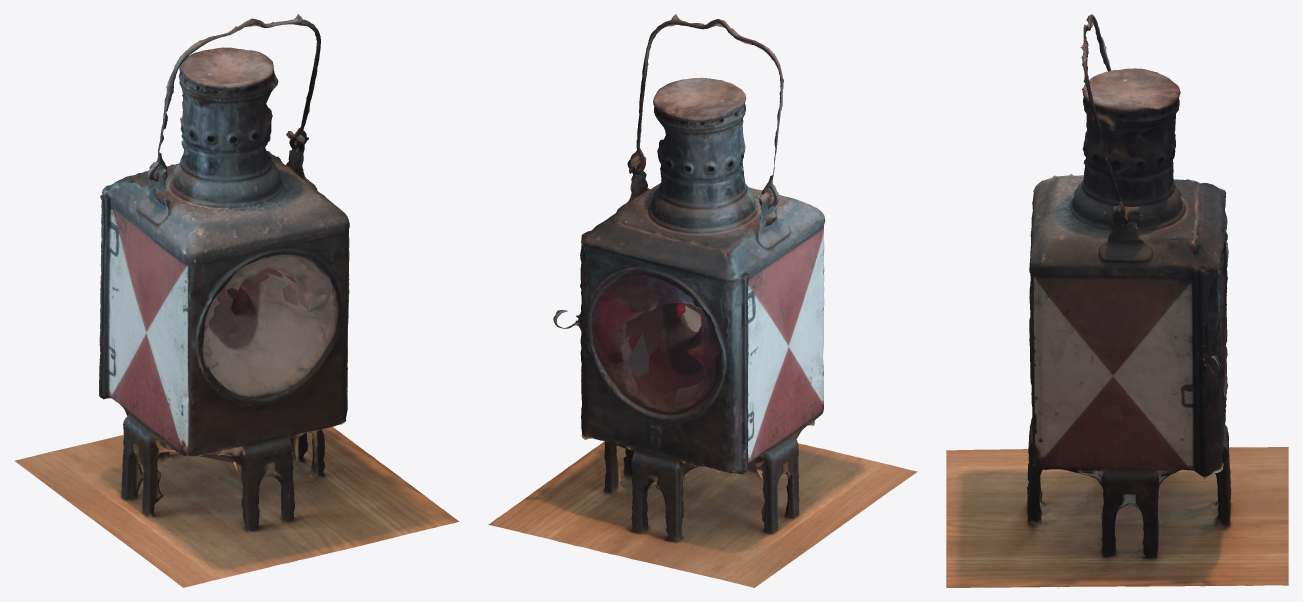
Rendered from lampe.glb.
3 views of the same model, side by side, from view 1: azimuth 30°, elevation 25°; view 2: azimuth 150°, elevation 25°; view 3: azimuth 270°, elevation 25° (orthographic). The views are drawn at different scales.
Parts seen in each view (by area): view 1: Object_5, Object_4; view 2: Object_4, Object_5; view 3: Object_4, Object_5.
Part boxes in pixels (x1,y1,x2,y2): Object_5: (15, 18, 459, 587); Object_4: (23, 14, 372, 502); Object_4: (488, 14, 825, 582); Object_5: (526, 18, 917, 587); Object_4: (1029, 14, 1288, 586); Object_5: (946, 17, 1288, 587).
Bounding box in the file's own units: 0.2297 × 0.3889 × 0.2436.
Materials: 1 (1 with a texture image).
